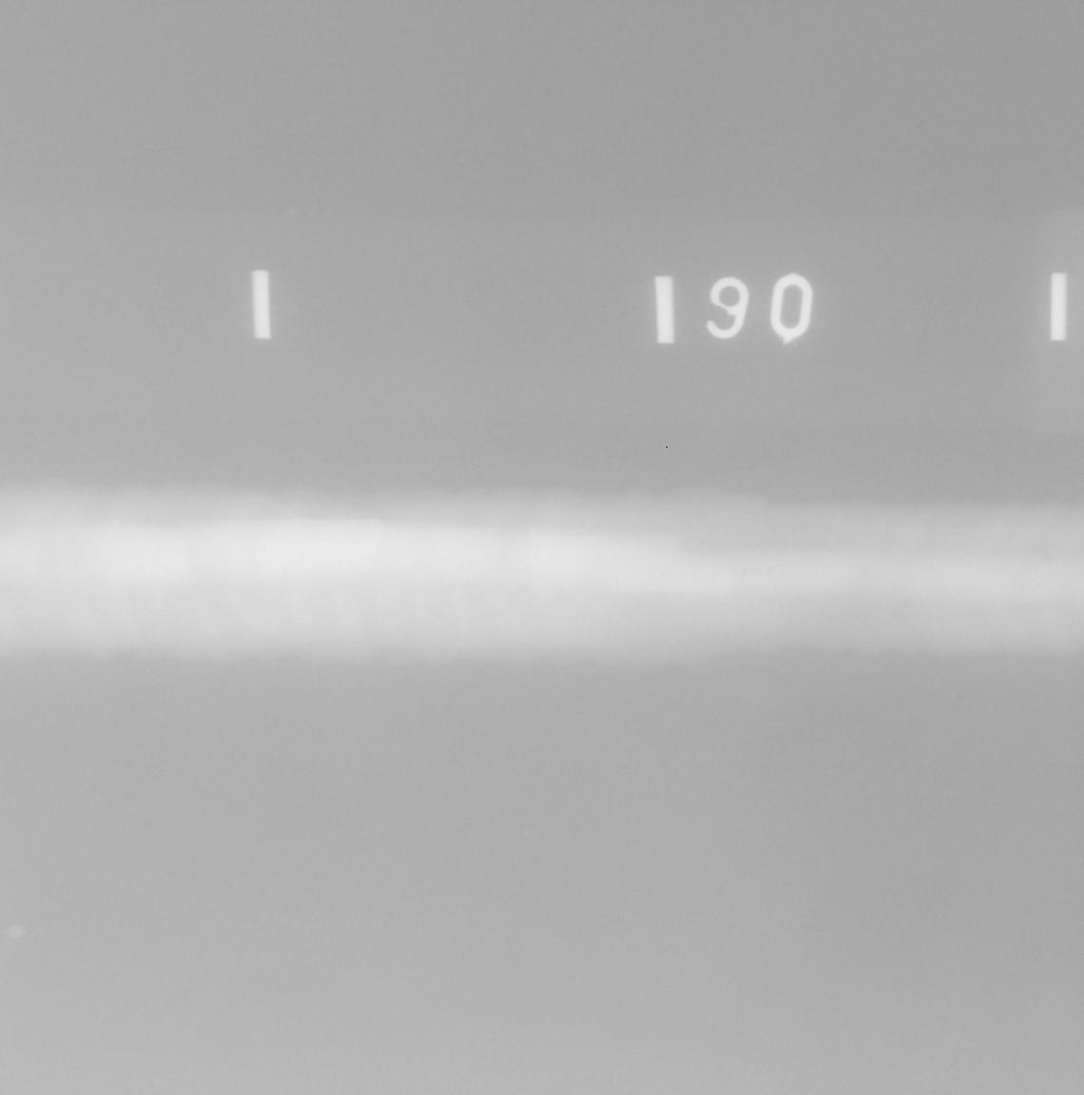Pore/Porosity: (897, 560, 905, 569), (767, 568, 775, 576), (1047, 554, 1055, 560), (739, 568, 746, 574), (752, 568, 758, 574)
